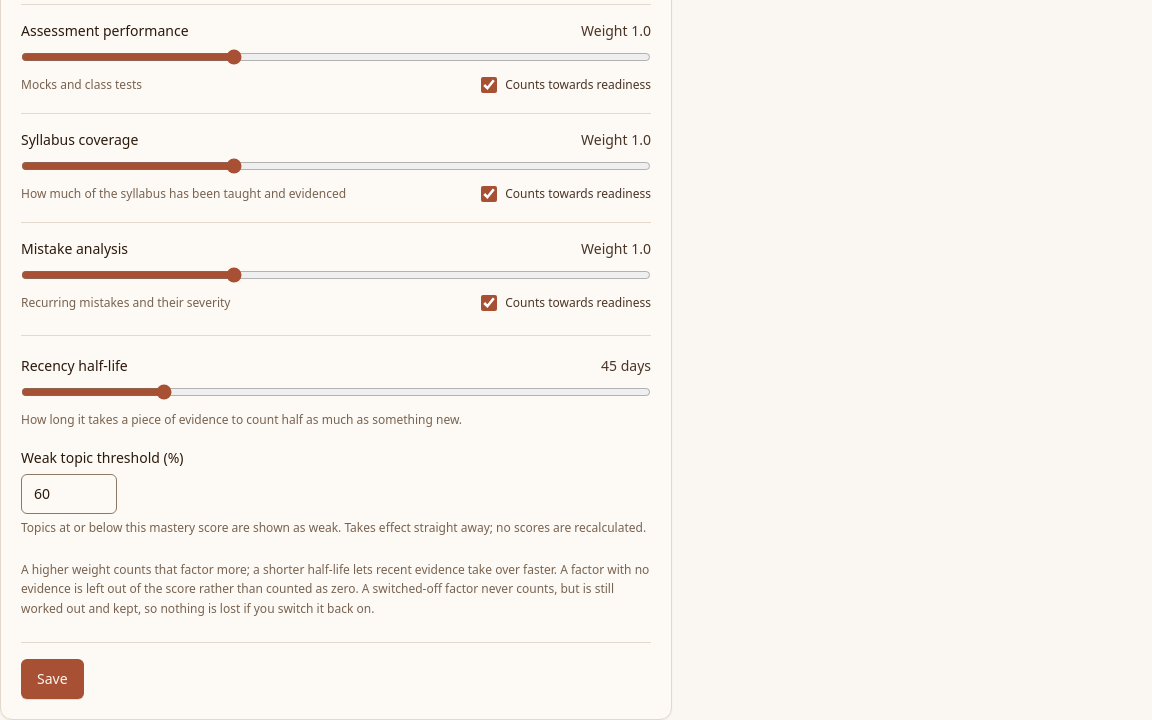
Scenario: a threshold-only save does not claim a recompute; a weight change does
(page scrolled)
Replace the text in the number field labelled "Weak topic threshold (%)" with "50" at (69, 494), box [21, 474, 117, 514]
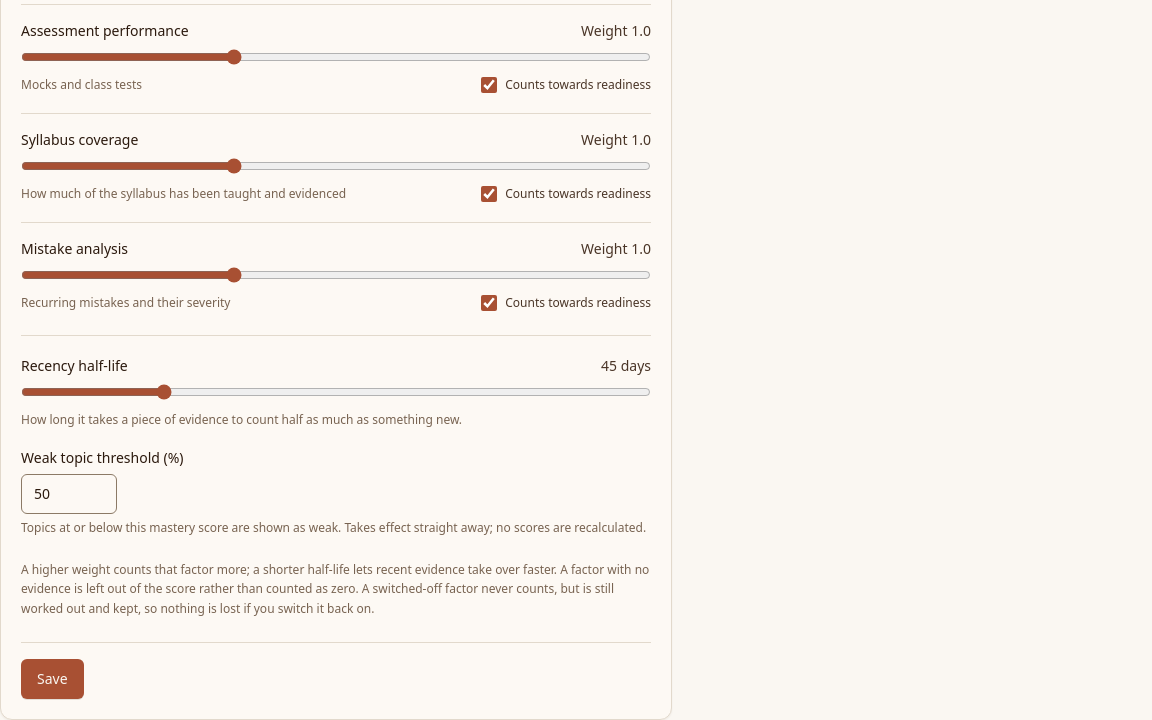
Click the button "Save".
click(52, 679)  # box [21, 659, 84, 699]
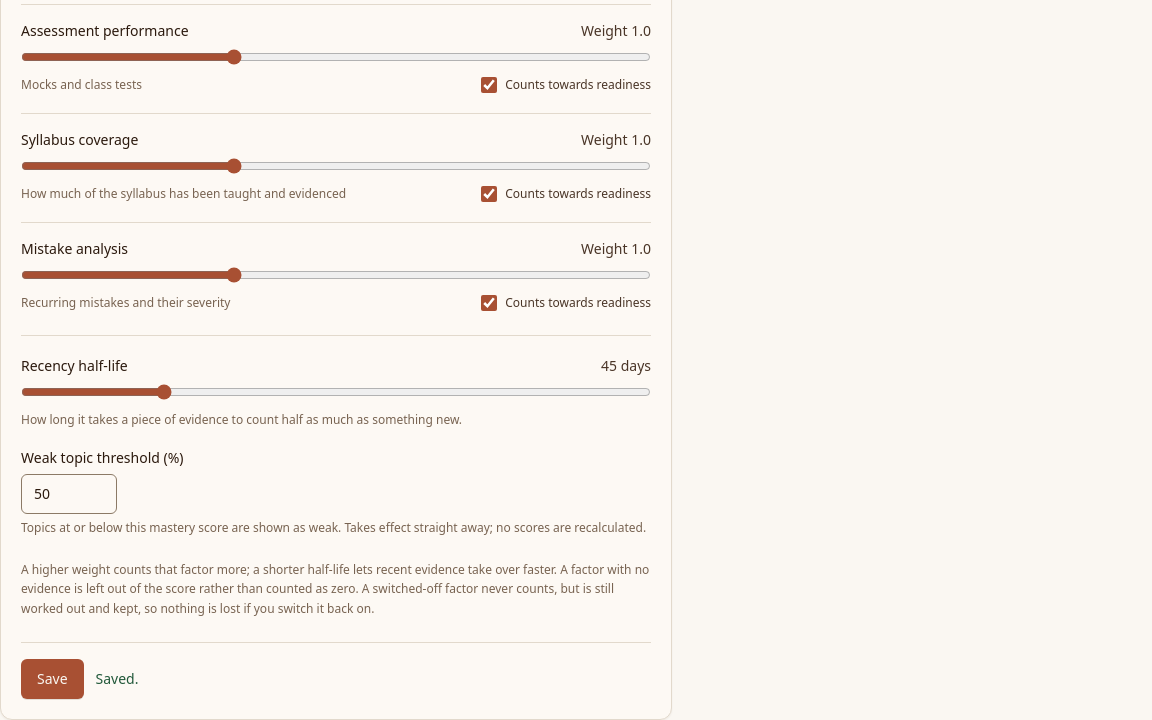
Expected: the text "recomputing" is not shown
Result: the text "Saved." is shown at [96, 669, 138, 689]
Set the slider named "half-life" to "30" at (111, 392), box [21, 384, 651, 400]
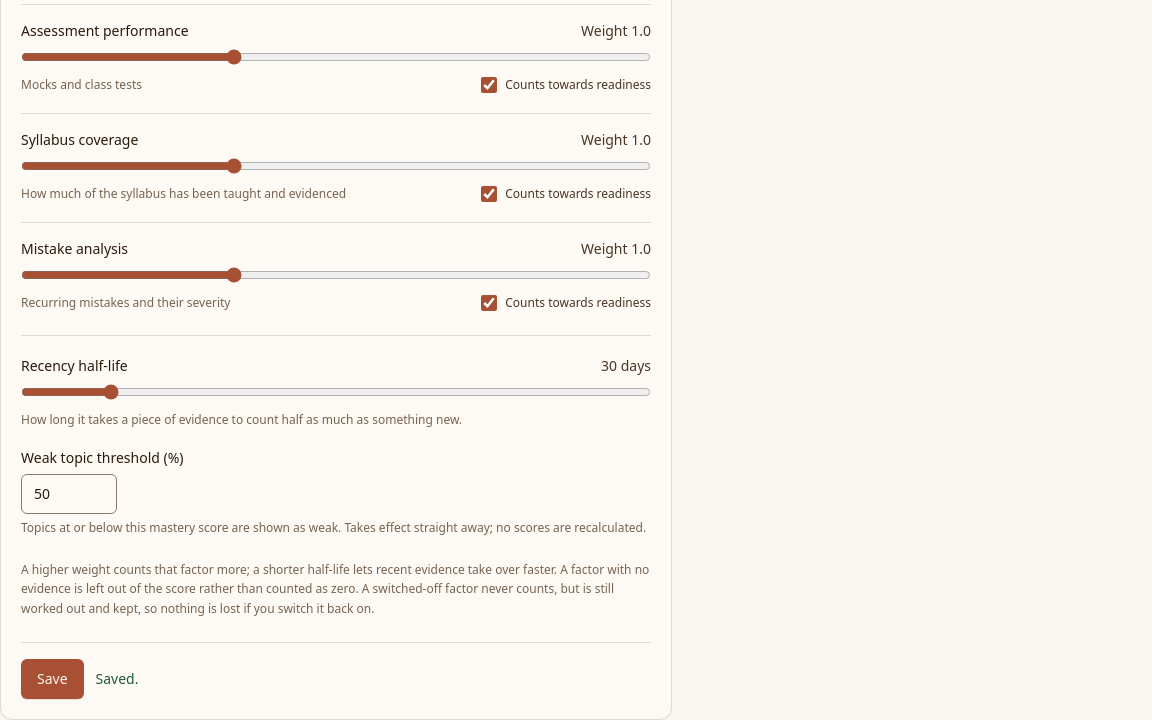
Click the button "Save".
click(52, 679)  # box [21, 659, 84, 699]
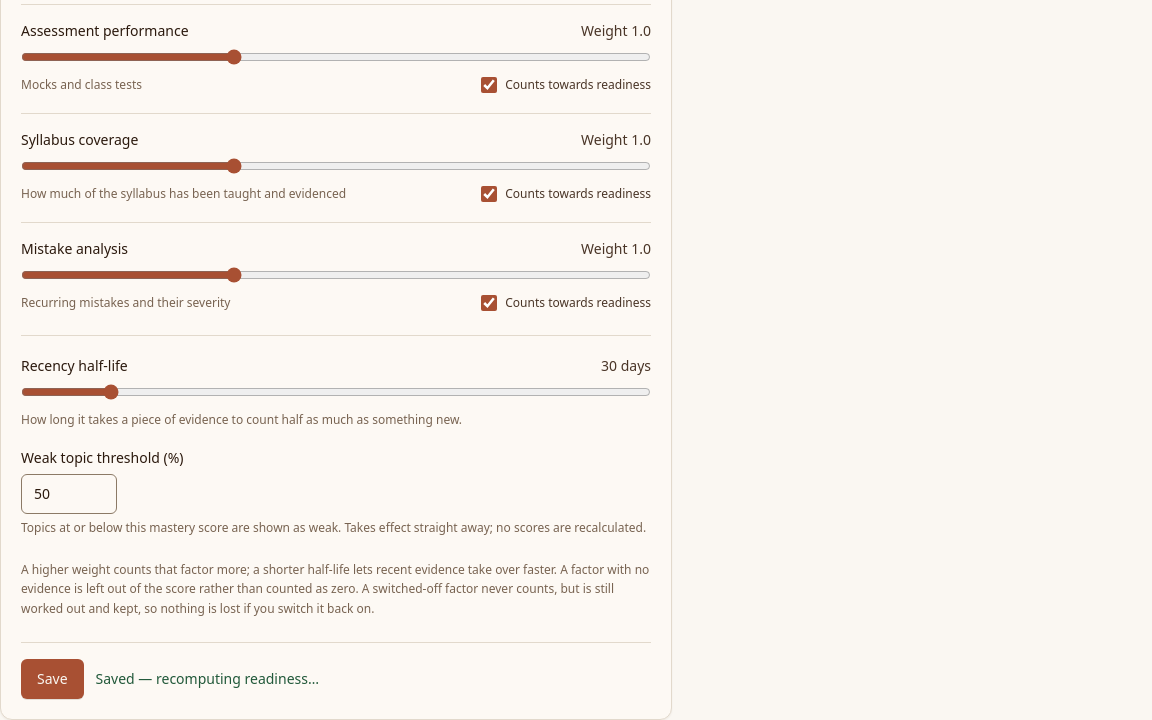
Result: the text "Saved — recomputing readiness…" is shown at [96, 669, 319, 689]
